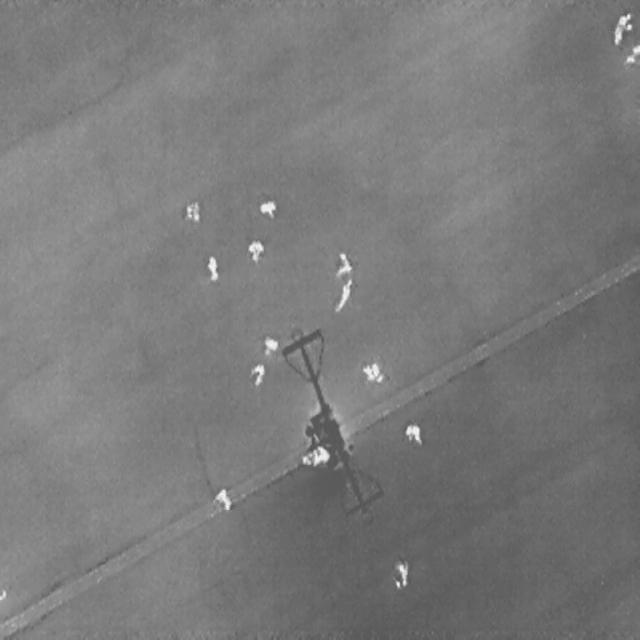Person: (608, 9, 635, 49), (330, 275, 353, 314), (359, 354, 387, 386), (211, 484, 233, 514), (247, 358, 267, 388), (204, 250, 220, 282), (404, 421, 422, 444), (248, 238, 263, 262), (311, 445, 329, 464), (184, 200, 199, 221), (336, 250, 350, 272), (258, 198, 275, 216), (262, 335, 278, 354), (395, 560, 407, 585), (624, 42, 638, 62)
